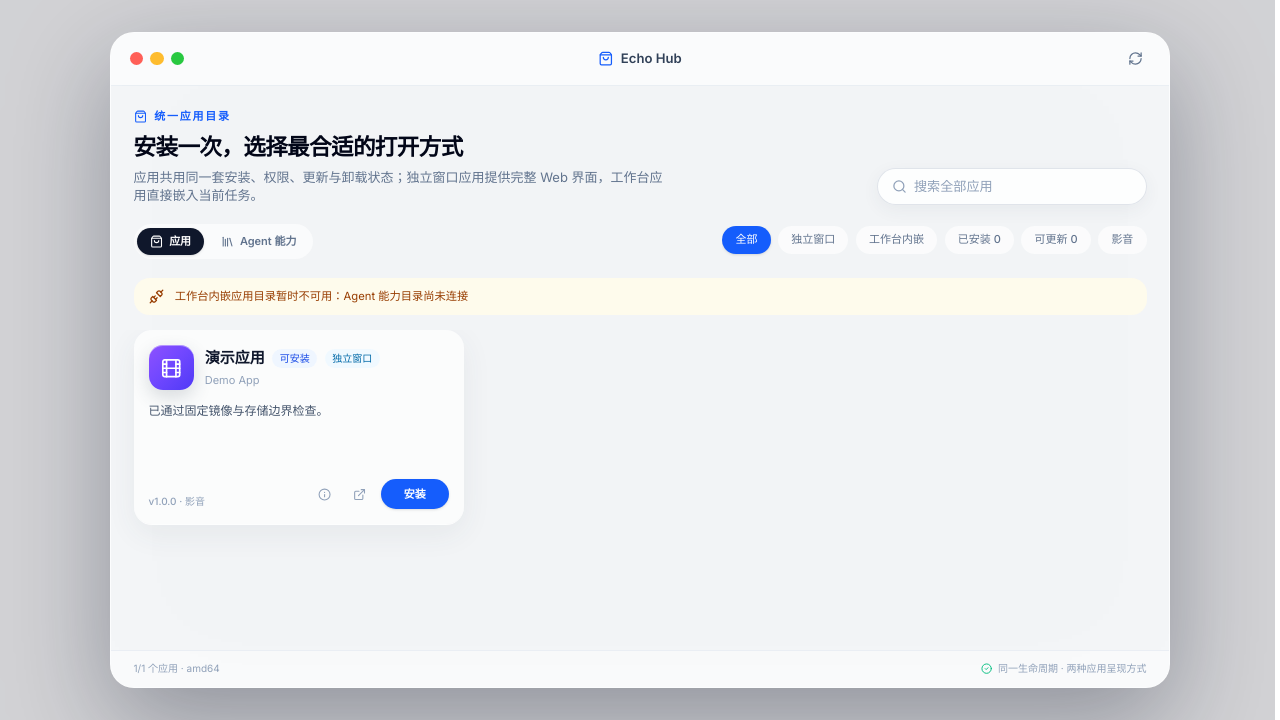
Scenario: Echo Hub panel › reviews a deterministic plan, requires password approval, then applies it
Click the button "安装": (415, 494) [381,479,449,509]
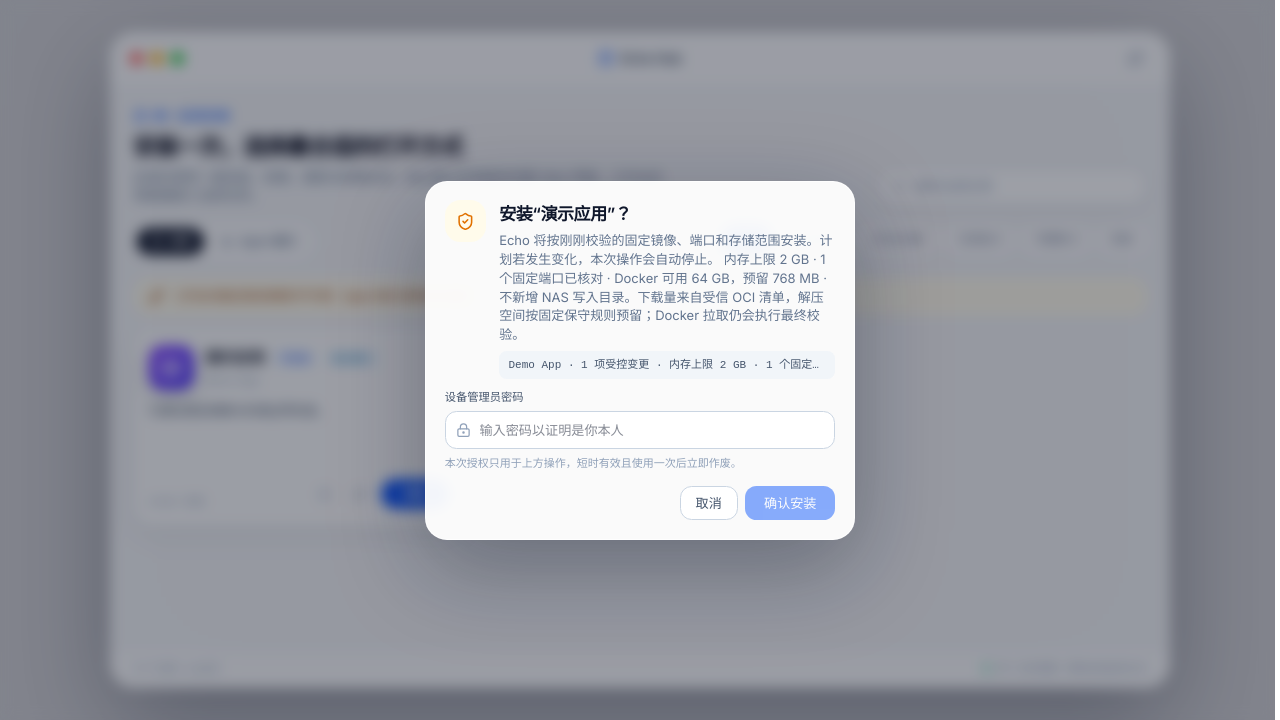
expect the dialog "安装“演示应用”？" is shown: met, box [425,180,855,540]
expect the dialog shows "内存上限 2 GB · 1 个固定端口已核对": met, box [499,232,832,342]
expect the dialog shows "Docker 可用 64 GB，预留 768 MB": met, box [499,232,832,342]
In the password field labelled "设备管理员密码": (640, 430) [445,411,835,448], type "correct-horse-battery-staple"
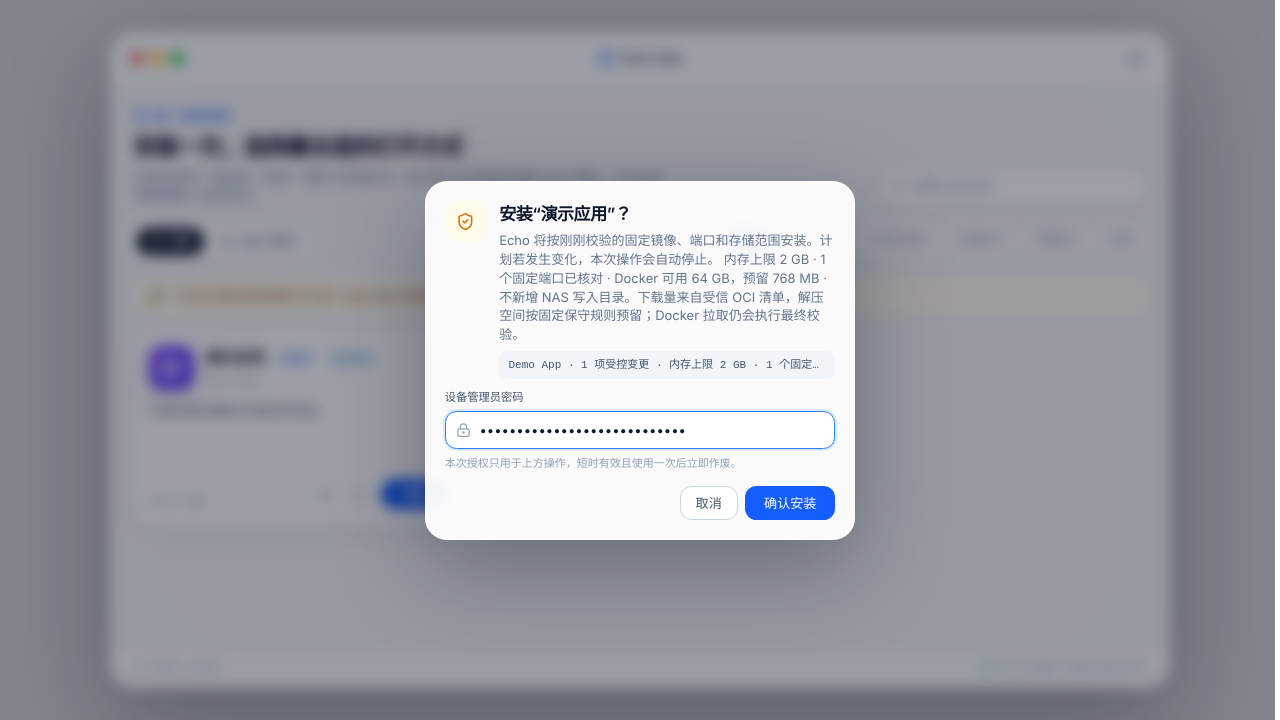
Click the button "确认安装": (790, 503) [745,486,835,520]
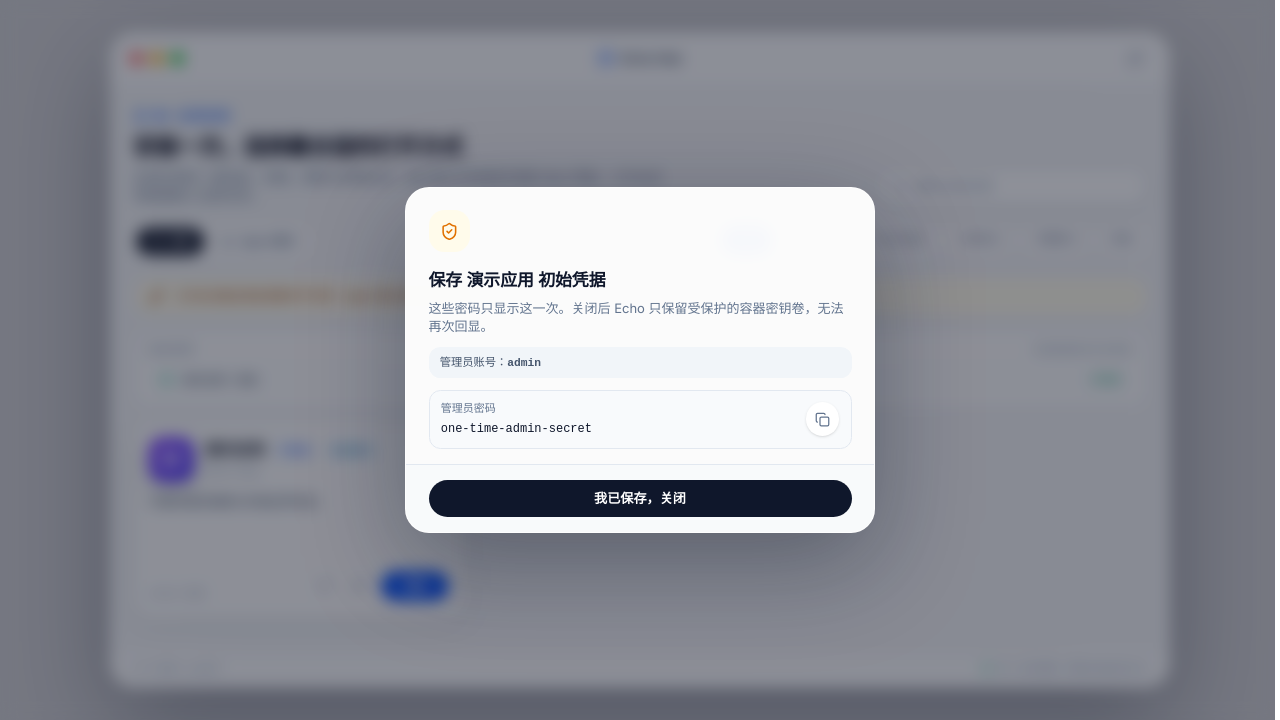
expect the dialog "演示应用 初始凭据" is shown: met, box [405,187,875,533]
expect the text "one-time-admin-secret" is shown: met, box [441,420,592,438]
Click the button "我已保存，关闭": (640, 498) [428,480,852,517]
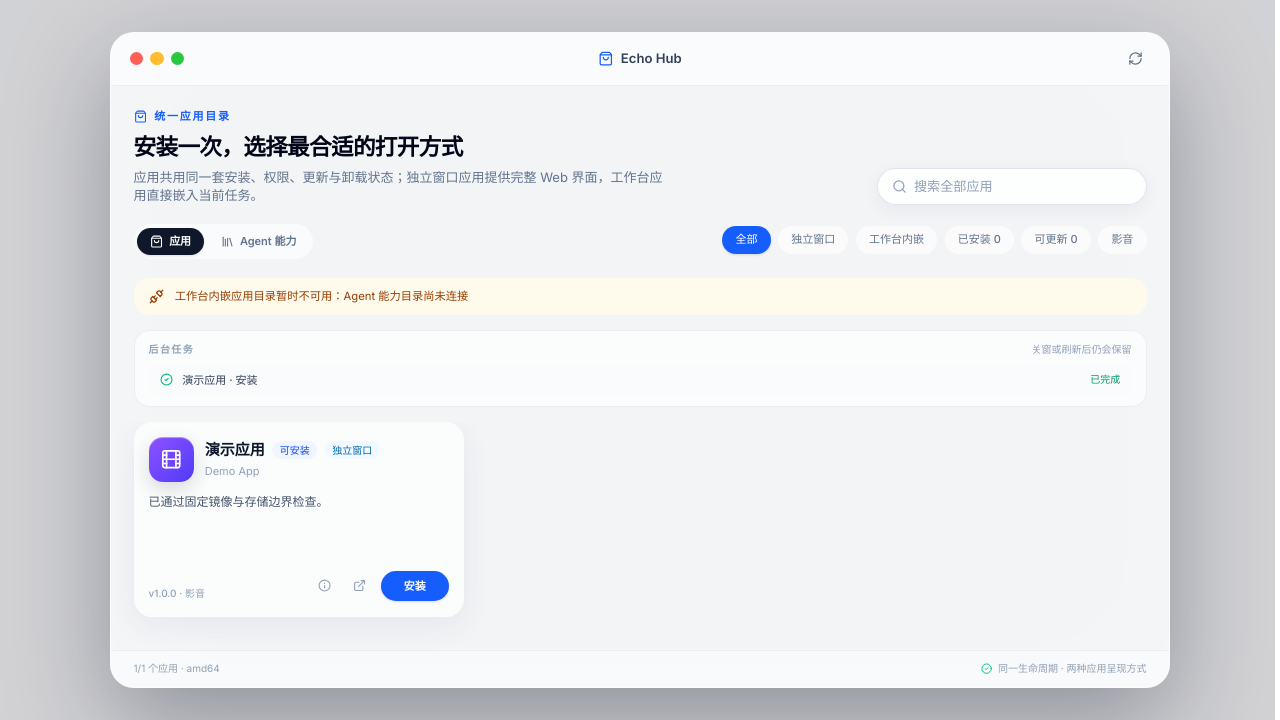
expect the text "one-time-admin-secret" is gone: met
